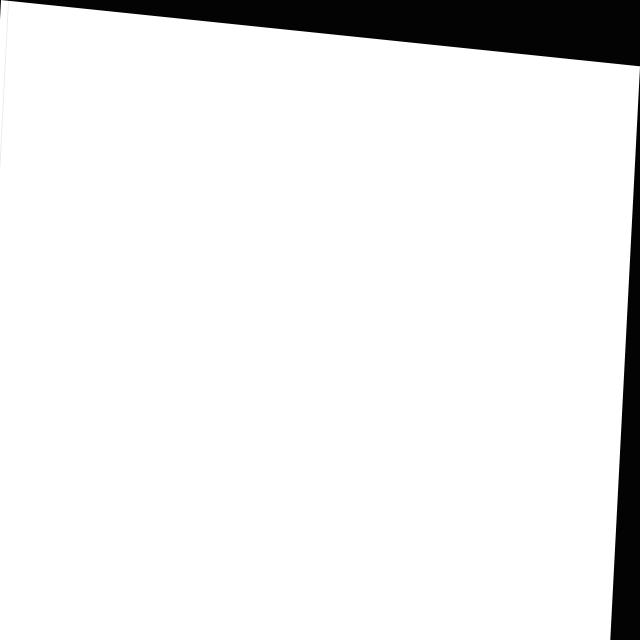qr_code: (0, 1, 618, 640)
